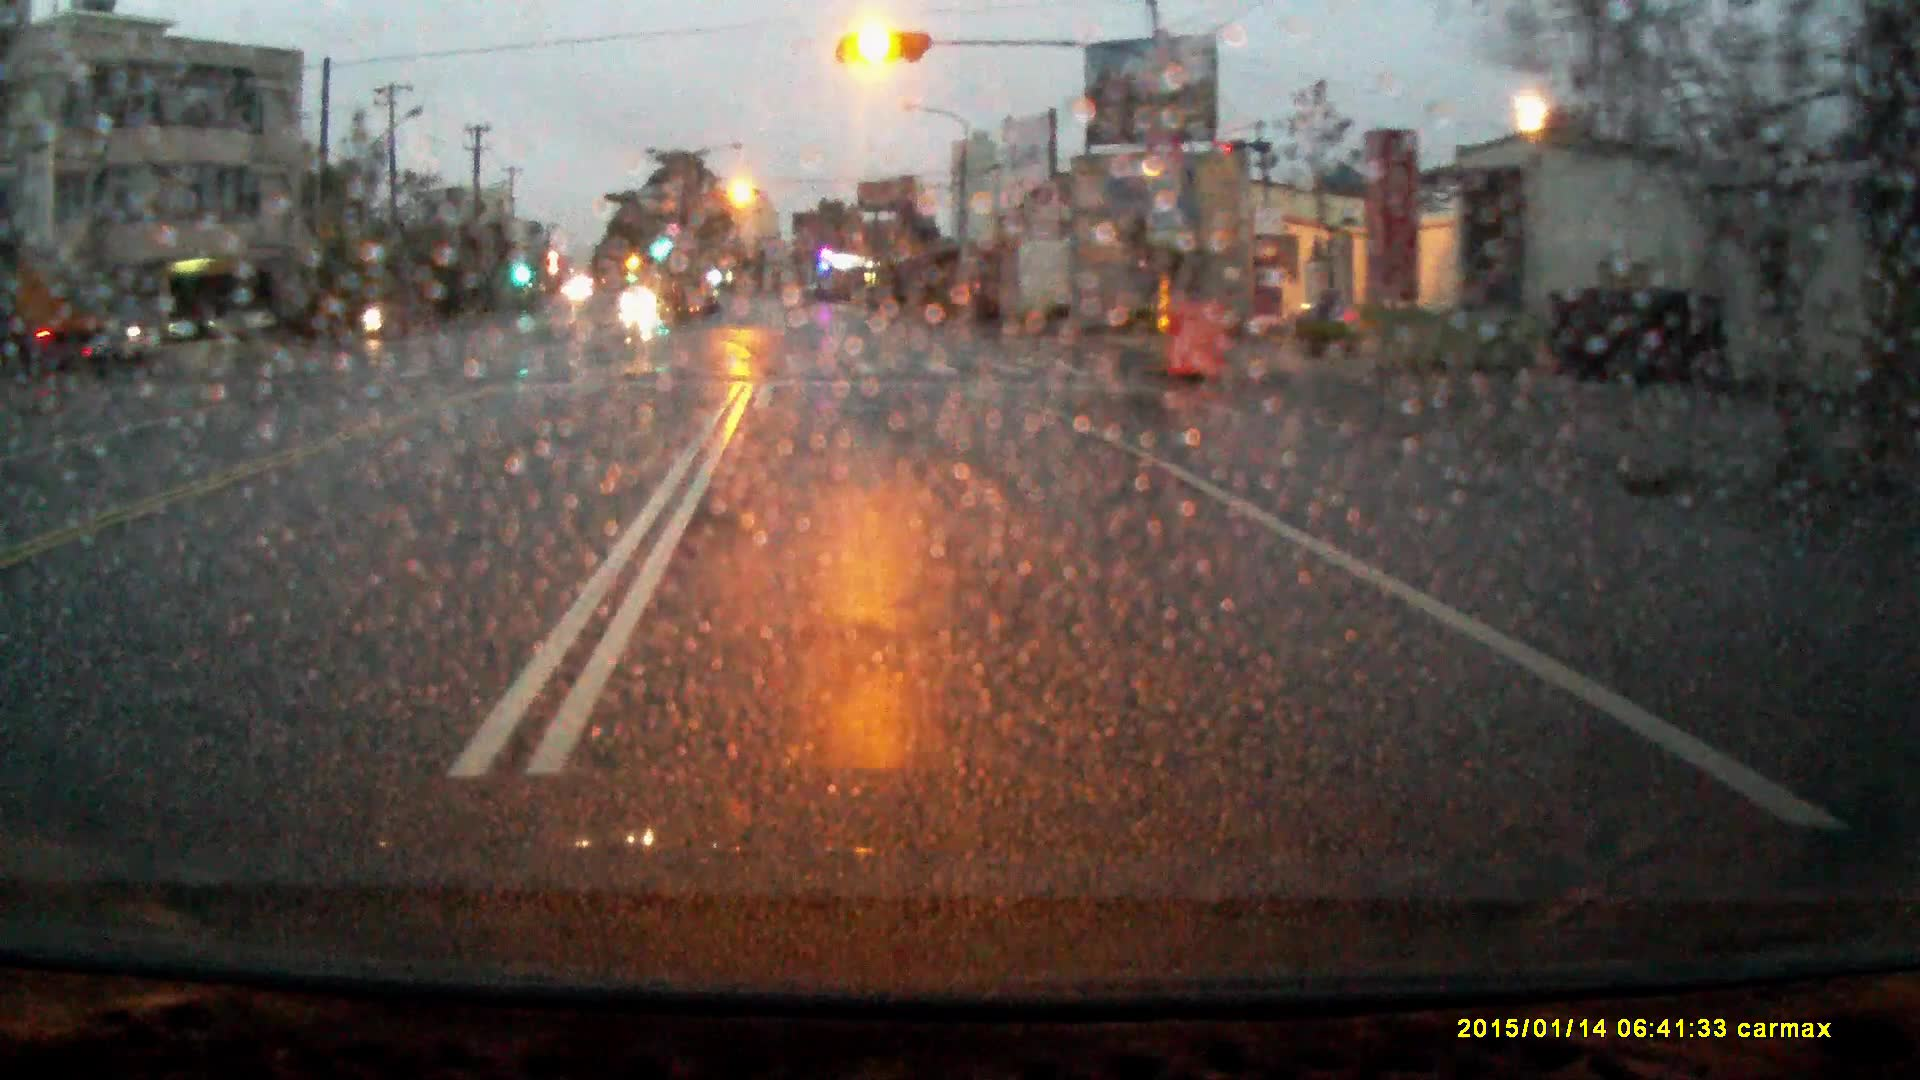rider: (360, 278, 387, 336)
vehicle: (1, 258, 99, 373), (620, 287, 660, 314)
